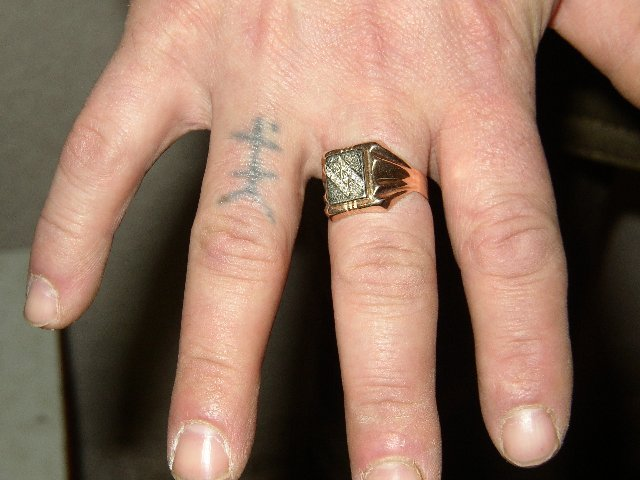tatu9_krest: (226, 104, 290, 211)
